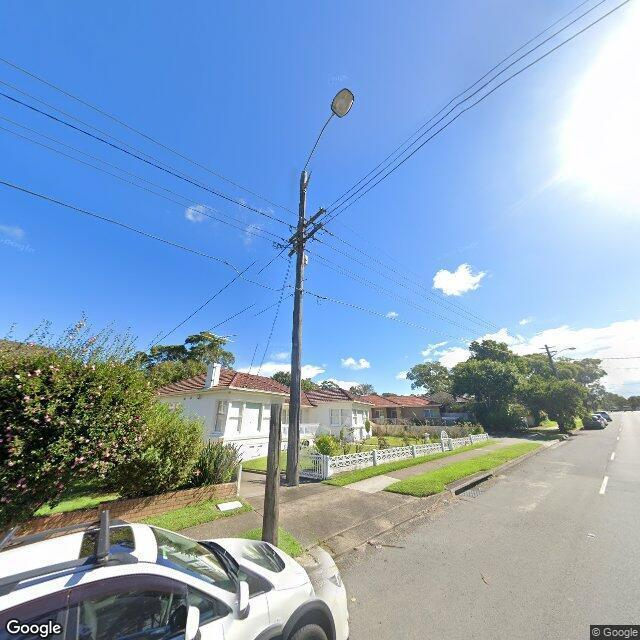crossarm: (287, 208, 327, 243), (286, 222, 324, 257), (542, 351, 558, 354), (539, 347, 555, 349)
streetlight: (304, 87, 357, 190), (552, 347, 576, 358)
timber-pole: (260, 170, 308, 547), (545, 345, 558, 378)
